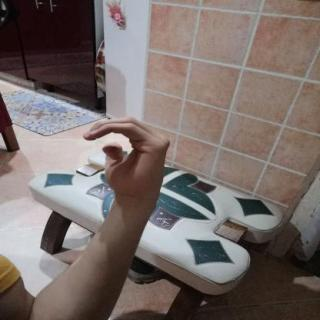JEEM: (73, 110, 181, 212)
